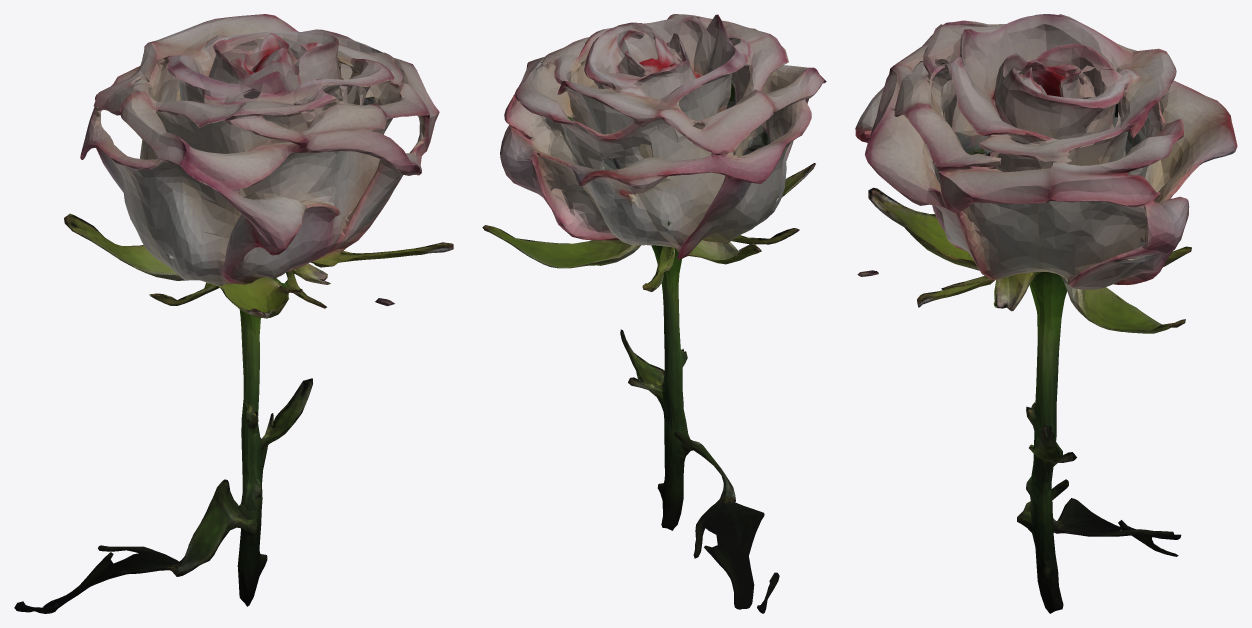
3 renders of one model, left to right at view 1: azimuth 30°, elevation 25°; view 2: azimuth 150°, elevation 25°; view 3: azimuth 270°, elevation 25°, orthographic. The views are drawn at different scales.
Parts seen in each view (by area): view 1: world; view 2: world; view 3: world.
Boxes of the visible parts, x1=… form: world: x1=14, y1=14, x2=453, y2=613; world: x1=482, y1=14, x2=826, y2=613; world: x1=855, y1=14, x2=1237, y2=613.
Size of the model in its own units: 0.6038 by 0.9915 by 0.581.
1 material, 1 textured.
